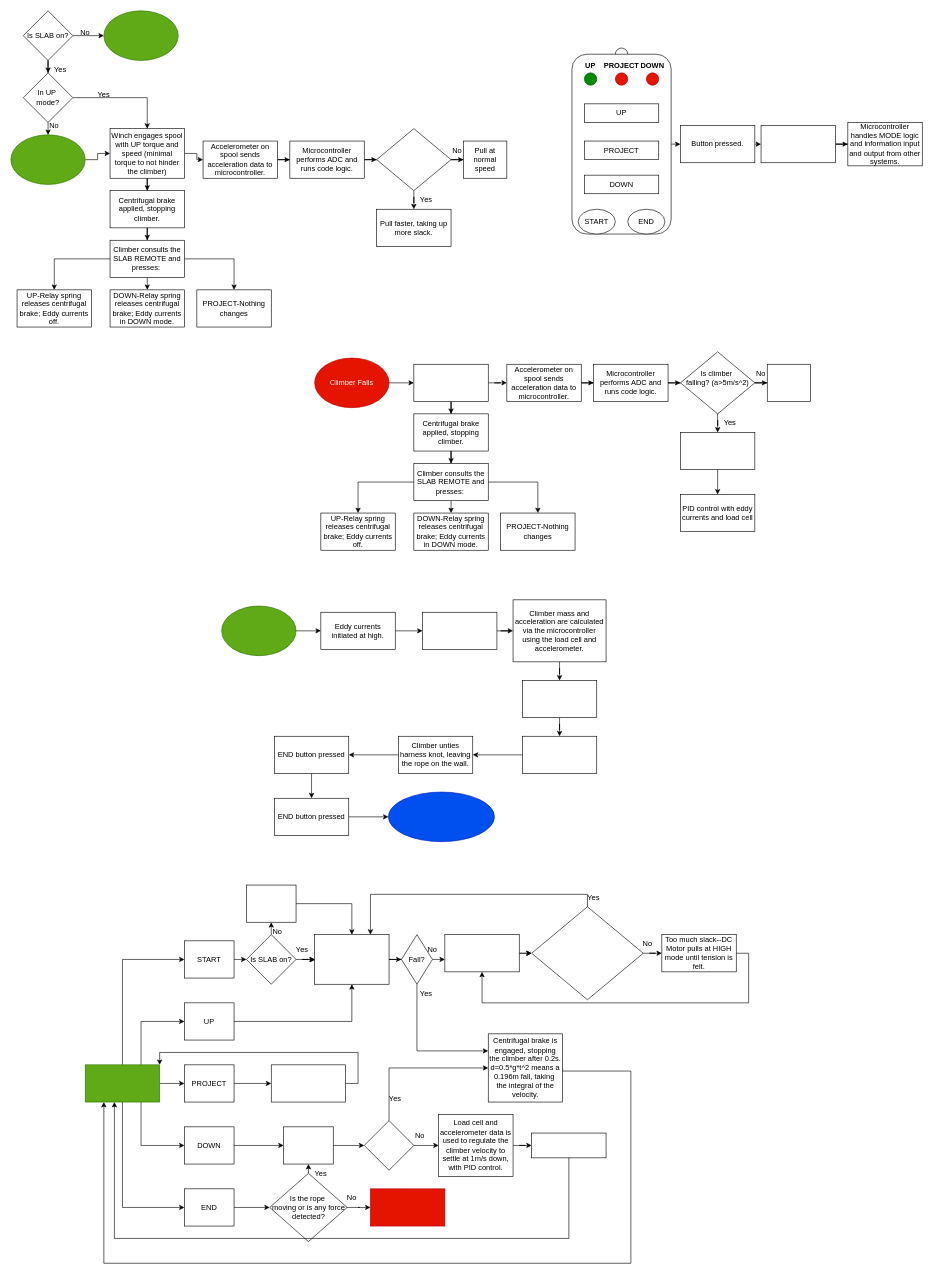
The diagram is 933 pixels wide and 1279 high, and some of its shapes have lost their labels. The centre of each missing label's shape, as x and y in pixels:
">5m/s 2 acceleration" belongs at point (450, 382).
"Bluetooth signal sent to microcontroller." belongs at point (797, 144).
"Button press on remote." belongs at point (122, 1083).
"Climber begins to fall, very slowly." belongs at point (459, 630).
"Climber climbs and pulls for slack, with negligible resistance from the motor." belongs at point (481, 953).
"Climber descent speed is adjusted with the PID control system." belongs at point (559, 699).
"Climber is grounded." belongs at point (568, 1145).
"Climber reaches the ground softly." belongs at point (559, 754).
"DC Motor pulls at HIGH mode for 3m then NORMAL mode above 3m, for less slack." belongs at point (351, 959).
"Device powers down." belongs at point (407, 1207).
"Double-shoe brake engages until climber presses another button." belongs at point (308, 1083).
"DOWN button pressed" belongs at point (258, 630).
"Eddy current set to high." belongs at point (308, 1145).
"Eddy currents OFF; Motor in UP mode." belongs at point (789, 382).
"Eddy currents to DOWN mode--failsafe." belongs at point (717, 451).
"Electrical failure?" belongs at point (389, 1145).
"Is climber below 2nd clip-in?" belongs at point (413, 159).
"Is there tension from the load cell and rope movement from the motor spinning?" belongs at point (587, 953).
"SLAB is turned on" belongs at point (271, 903).
"START Button Pressed" belongs at point (140, 35).
"UP Button Pressed" belongs at point (47, 159).
"Winch motor collects rope, cleaning the route to be ready for the next climb." belongs at point (441, 816).
